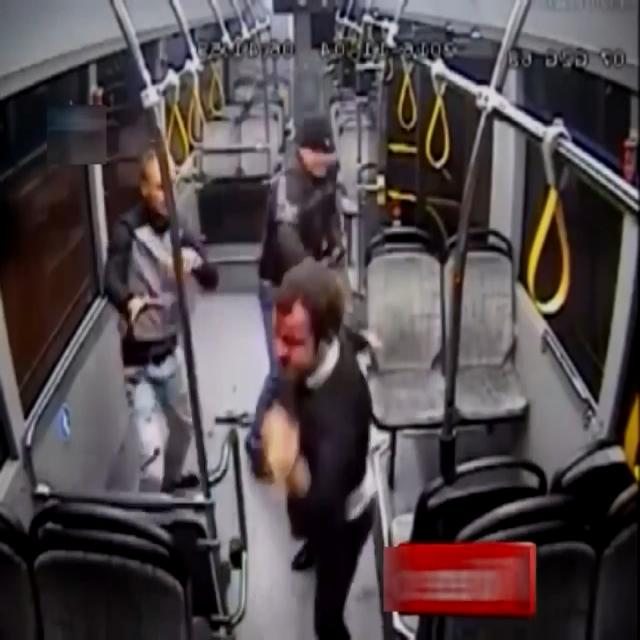fight: (108, 138, 366, 640), (261, 108, 380, 640)
